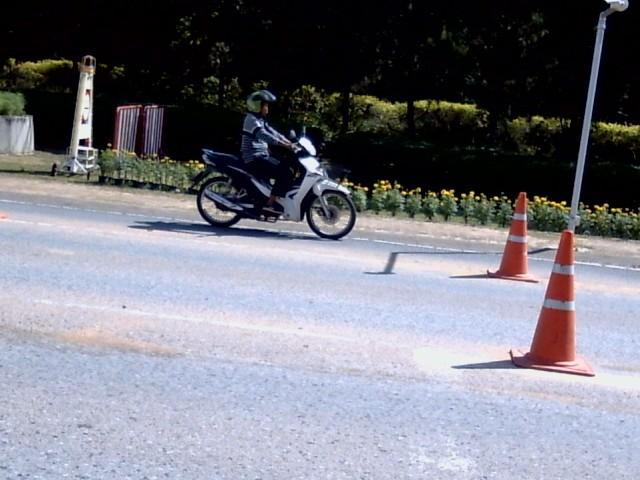helmet: (244, 81, 278, 114)
motor: (194, 137, 355, 239)
person: (240, 90, 295, 214)
